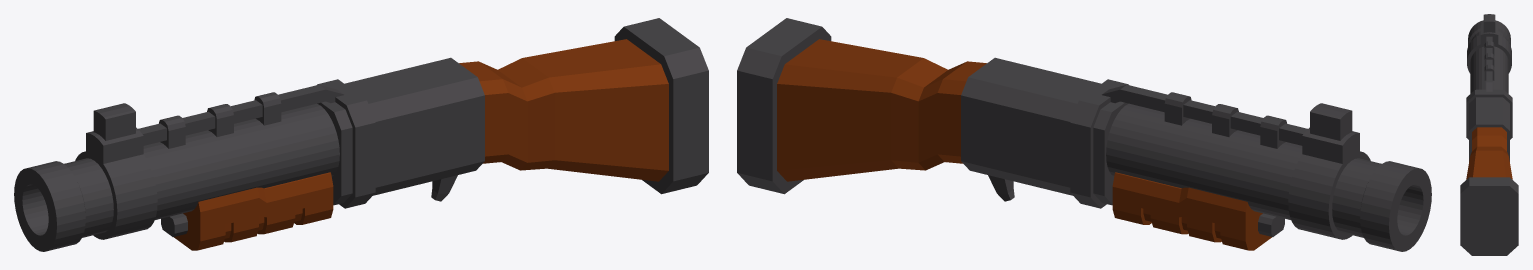
Rendered from hunter shotgun.fbx.
3 views of the same model, side by side, from view 1: azimuth 30°, elevation 25°; view 2: azimuth 150°, elevation 25°; view 3: azimuth 270°, elevation 25° (orthographic). The views are drawn at different scales.
Visible parts, largest first — view 1: shotgun; view 2: shotgun; view 3: shotgun.
Boxes of the visible parts, bbox=[...] form: shotgun: bbox=[14, 18, 708, 251]; shotgun: bbox=[737, 18, 1431, 251]; shotgun: bbox=[1460, 14, 1518, 255].
Bounding box in the file's own units: 1940 × 578 × 306.
